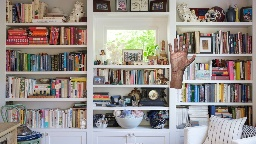Mano_aperta: (166, 34, 196, 73)
